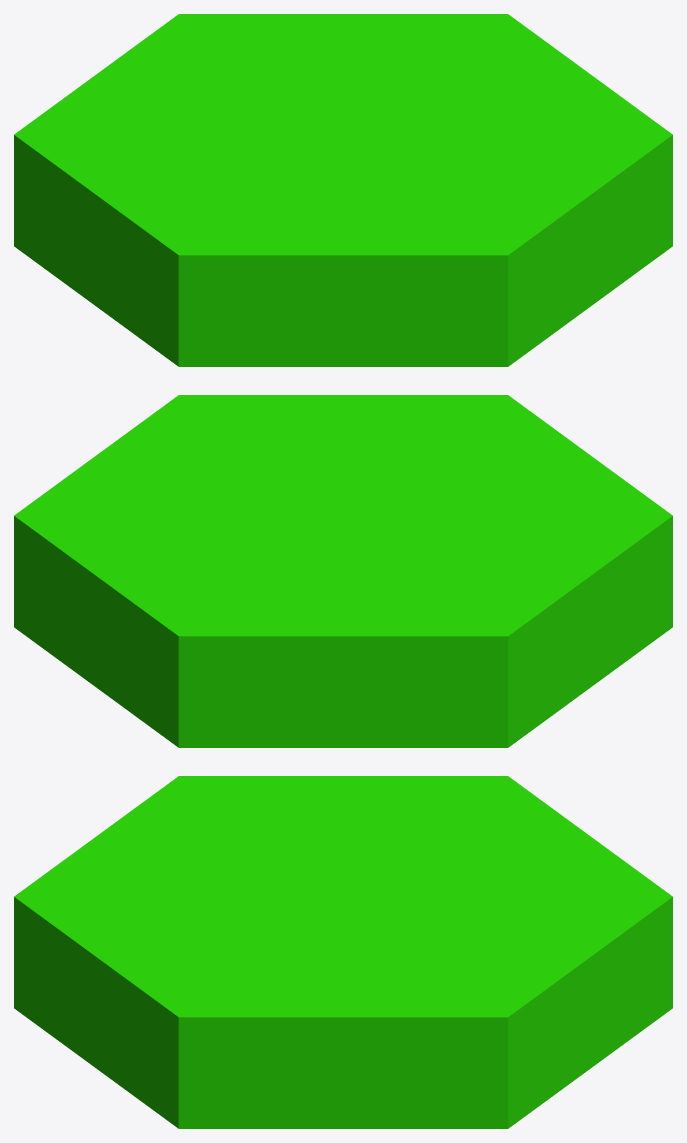
Rendered from BaseHexagon.fbx.
3 renders of one model, top to bottom at view 1: azimuth 30°, elevation 25°; view 2: azimuth 150°, elevation 25°; view 3: azimuth 270°, elevation 25°, orthographic.
Parts seen in each view (by area): view 1: Circle; view 2: Circle; view 3: Circle.
Boxes of the visible parts, <box> form: Circle: <box>14,14,672,366</box>; Circle: <box>14,395,672,747</box>; Circle: <box>14,776,672,1128</box>.
Size of the model in its own units: 173 by 37.37 by 200.
